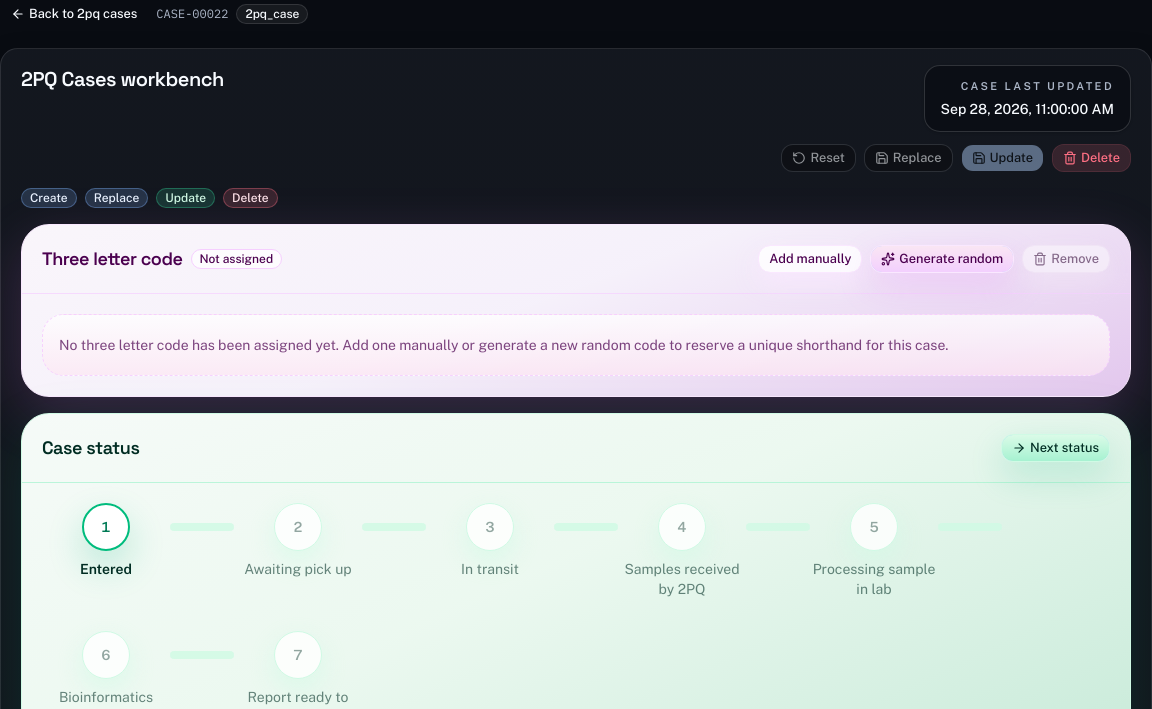
Test: 2PQ case-status progress modal › keeps a failed partial process visible until Finish refreshes it
Click the button "Next status" at (1056, 448), box 1001,434 -> 1110,462
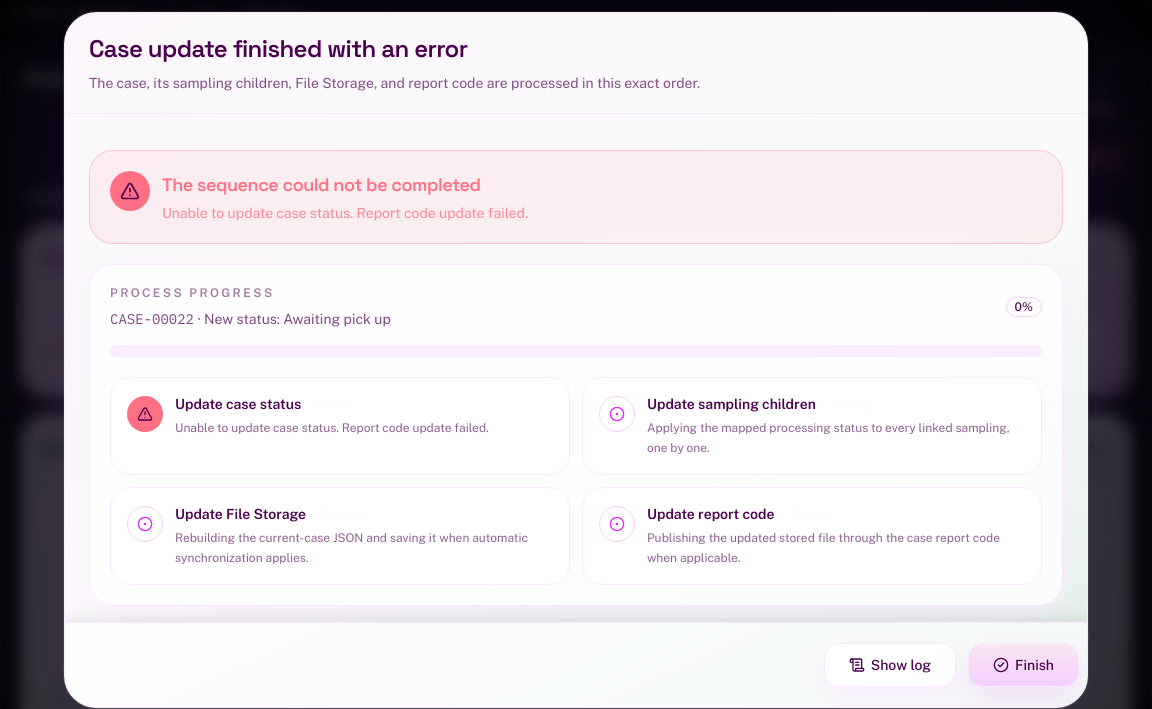
expect the heading "Case update finished with an error" is shown: met, box 89,33 -> 468,64
expect the heading "The sequence could not be completed" is shown: met, box 162,171 -> 528,199
expect the button "Show log" is shown: met, box 824,643 -> 956,687
Click the button "Finish" at (1024, 665), box 968,643 -> 1079,687
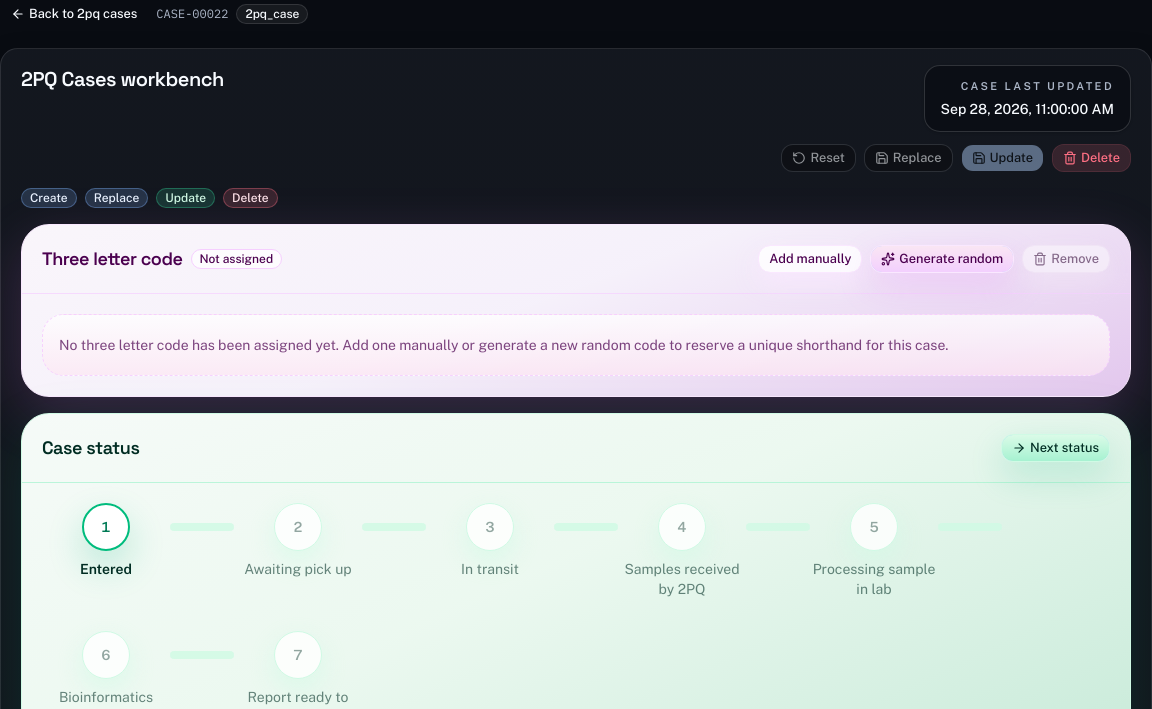
expect the heading "Case update finished with an error" is gone: met
